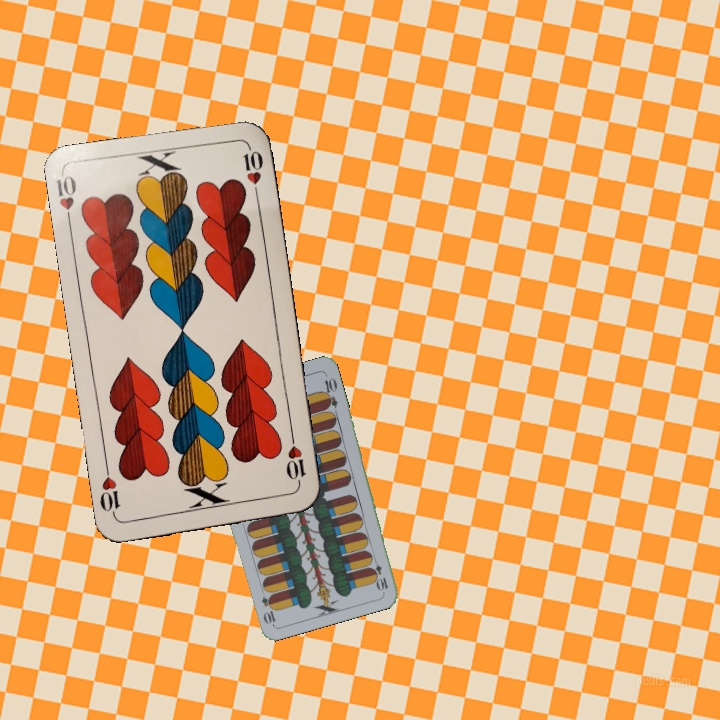E10: (368, 553, 391, 593)
H10: (282, 431, 308, 490), (53, 171, 79, 230)
